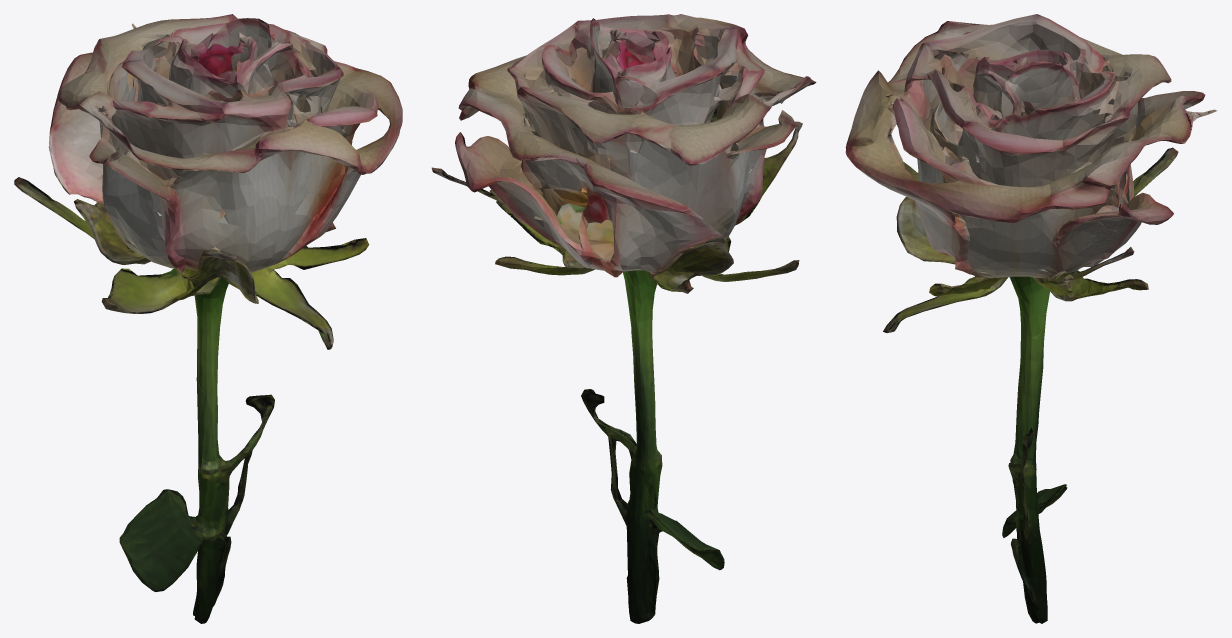
3 renders of one model, left to right at view 1: azimuth 30°, elevation 25°; view 2: azimuth 150°, elevation 25°; view 3: azimuth 270°, elevation 25°, orthographic.
Visible parts, largest first — view 1: world; view 2: world; view 3: world.
Part boxes in pixels (x1,y1,x2,y2): world: [14, 14, 402, 623]; world: [431, 14, 816, 623]; world: [845, 14, 1217, 623].
Bounding box in the file's own units: 0.5258 × 0.9587 × 0.5514.
1 material, 1 textured.
